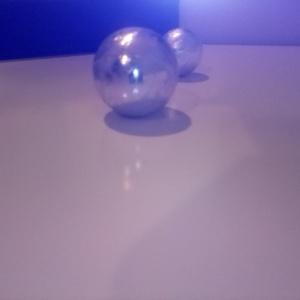alive_ball: (93, 27, 180, 117), (158, 28, 204, 76)
